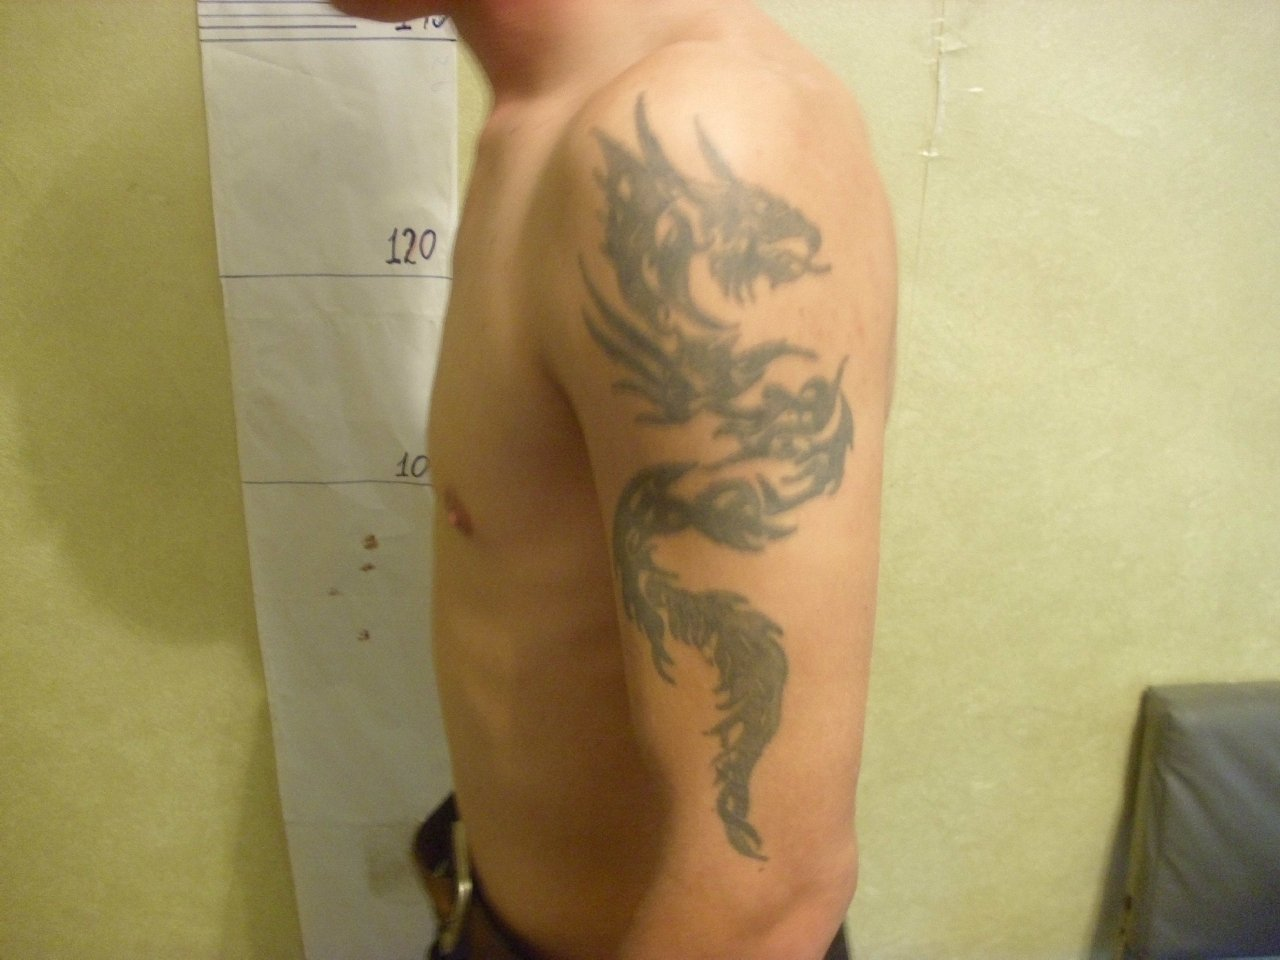tatu6_drakon: (551, 89, 859, 894)
